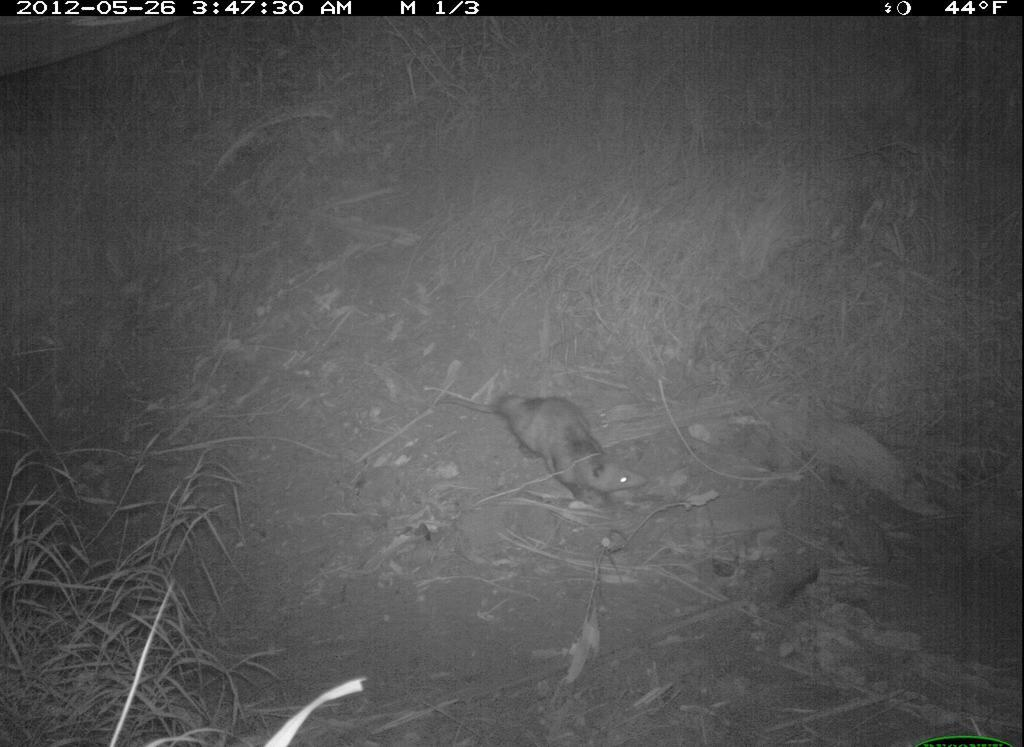opossum: (433, 378, 652, 519)
